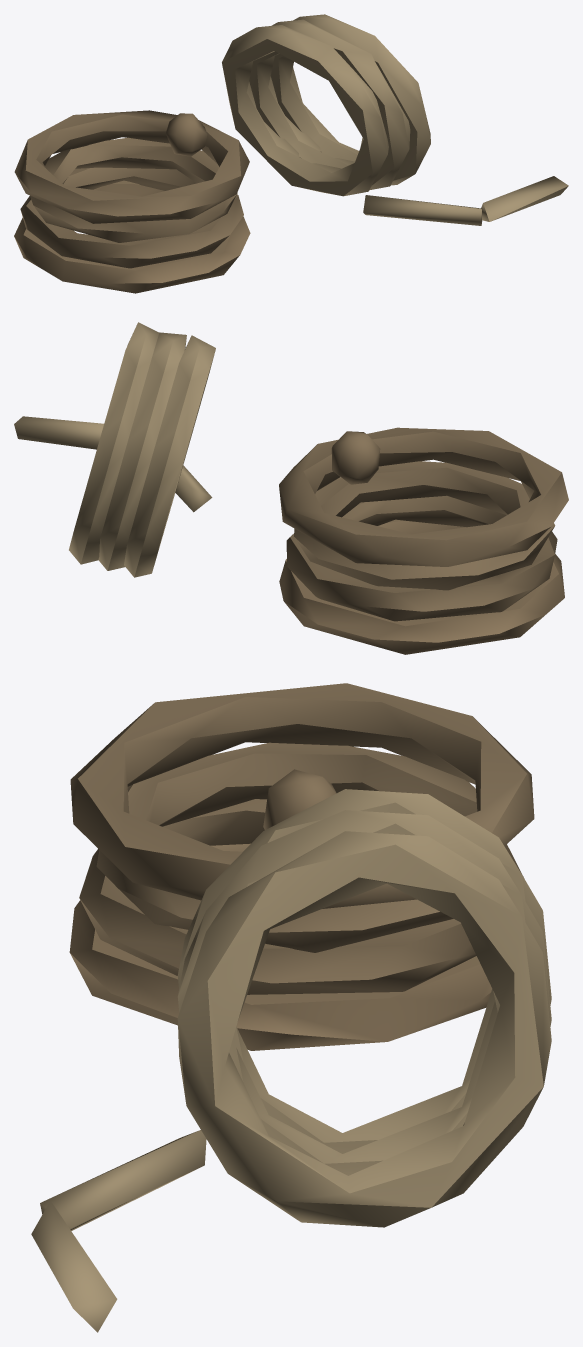
Rendered from rope_coil_b_lod1.glb.
3 renders of one model, top to bottom at view 1: azimuth 30°, elevation 25°; view 2: azimuth 150°, elevation 25°; view 3: azimuth 270°, elevation 25°, orthographic. The views are drawn at different scales.
Parts seen in each view (by area): view 1: Surface.001; view 2: Surface.001; view 3: Surface.001.
Part boxes in pixels (x1,y1,x2,y2): Surface.001: [14, 14, 568, 293]; Surface.001: [14, 322, 568, 654]; Surface.001: [31, 683, 551, 1332].
Bounding box in the file's own units: 2.68 × 0.9495 × 1.25.
